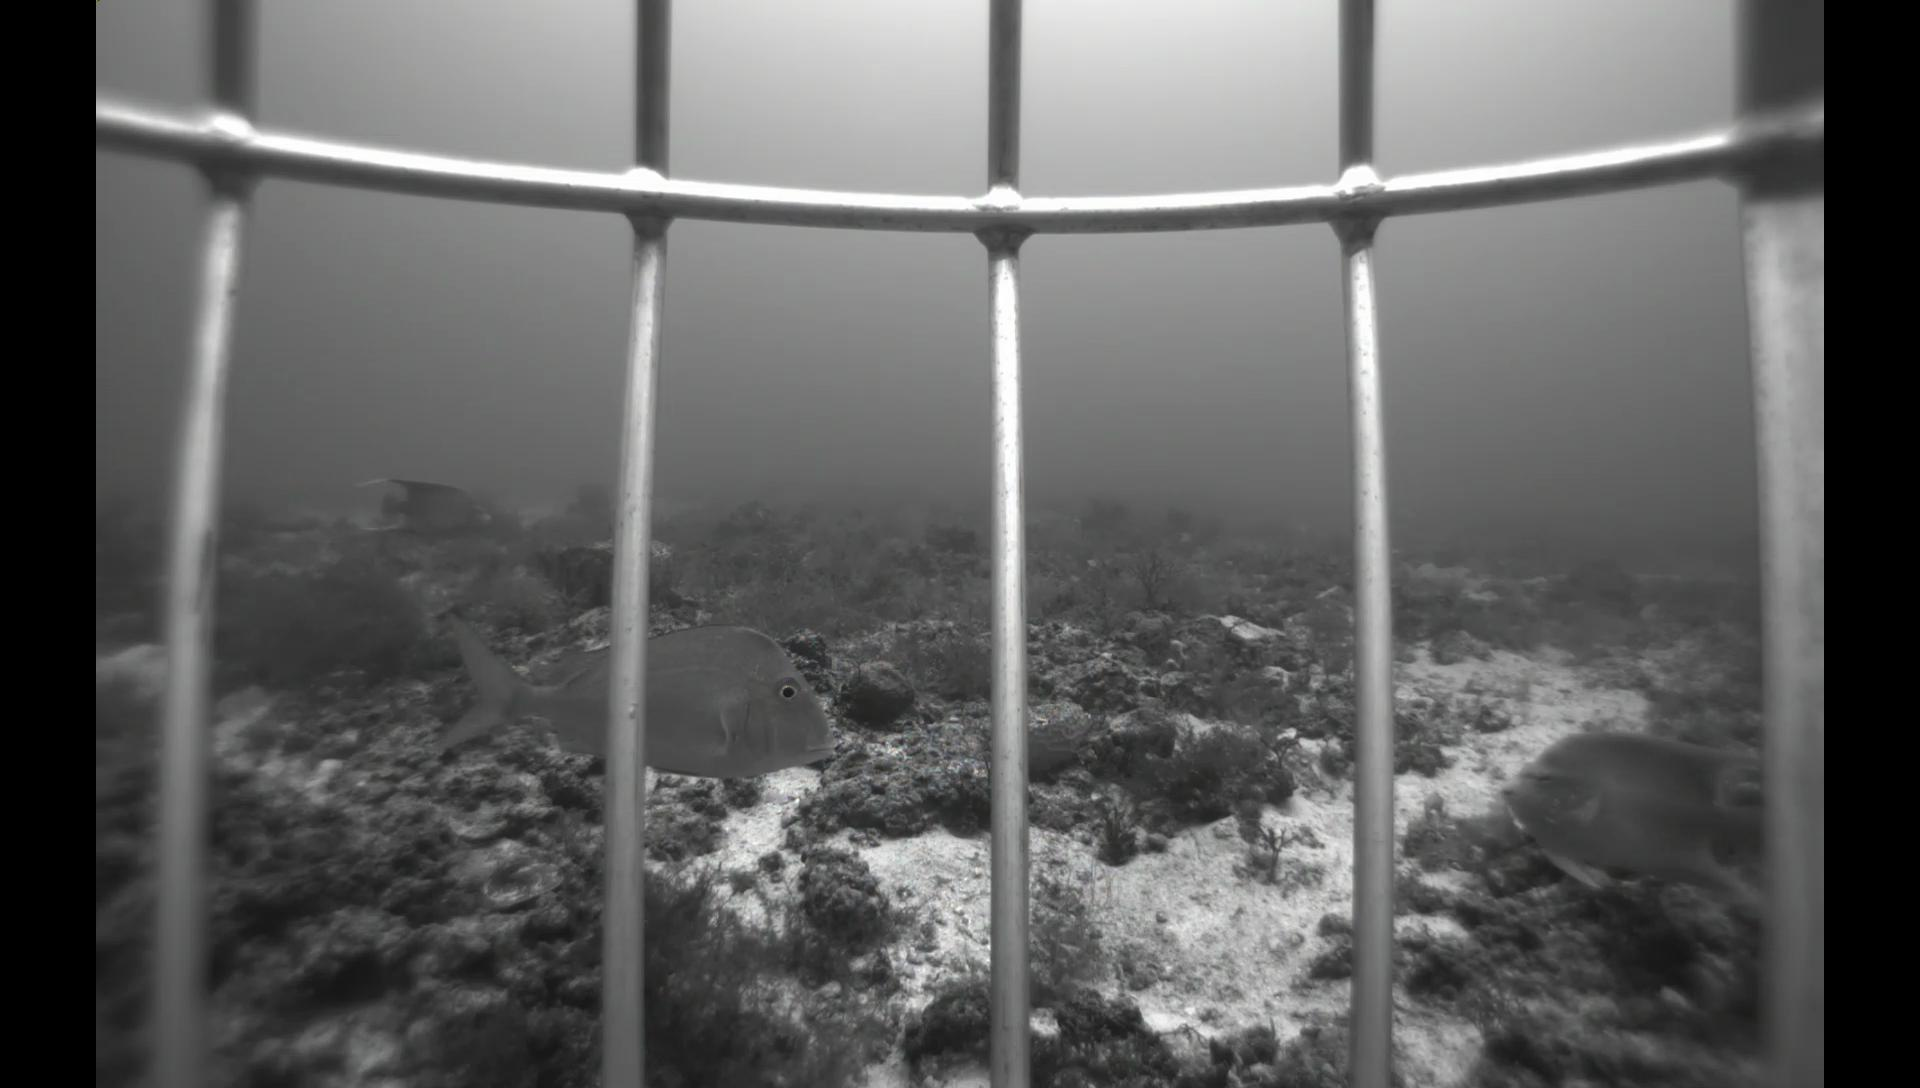CALAMUSNODOSUS-170210608: (422, 605, 847, 777)
HOLACANTHUSBERMUDENSIS-170290102: (1489, 720, 1766, 923), (349, 472, 498, 539)
MYCTEROPERCAPHENAX-170022105: (847, 512, 889, 557)
